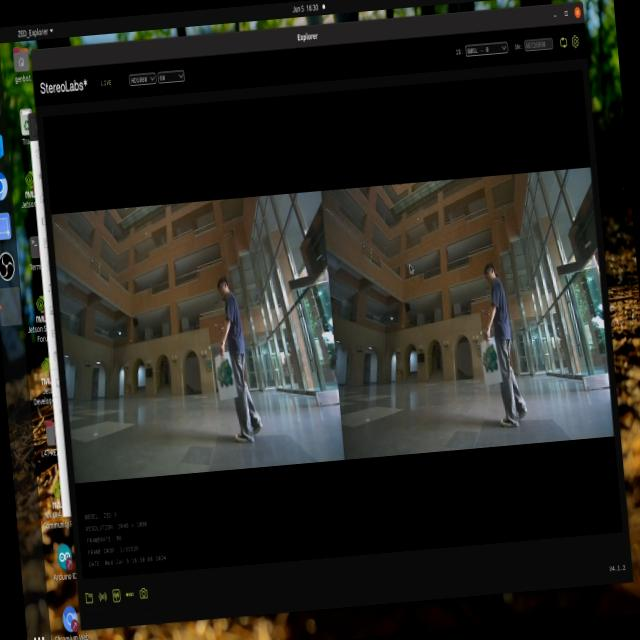green: (212, 353, 236, 398), (481, 342, 499, 386)
